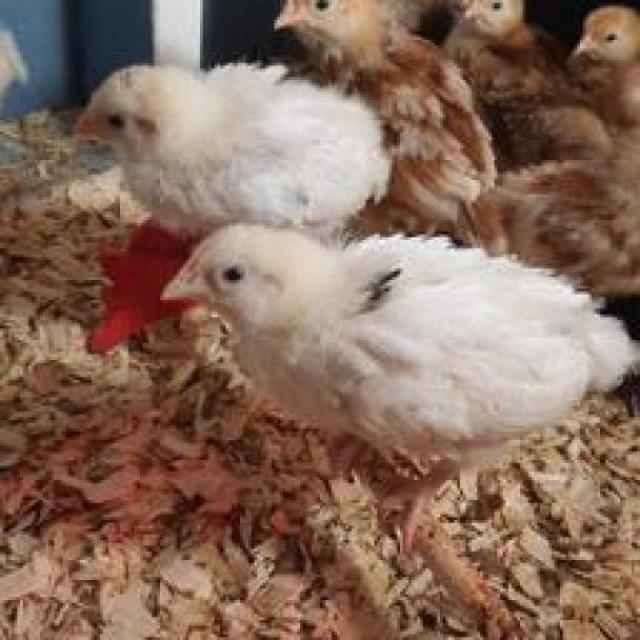Chicken: (180, 220, 640, 560), (77, 41, 388, 274)
